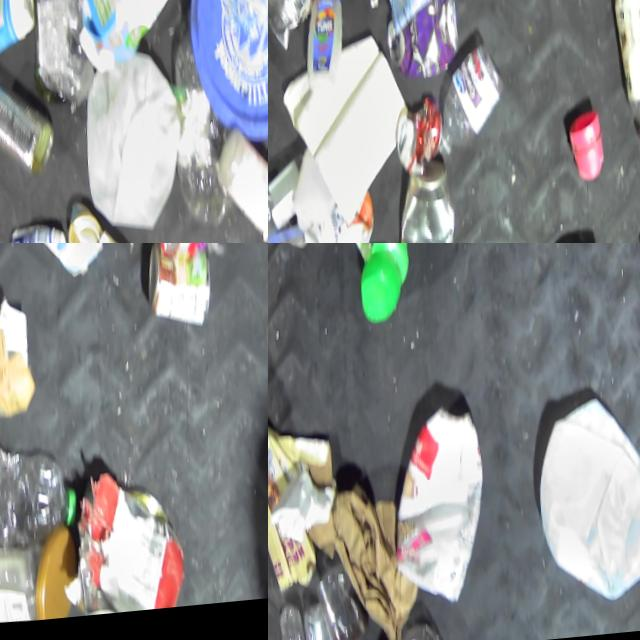can: (135, 243, 209, 341), (378, 0, 458, 89), (385, 157, 451, 243), (0, 76, 52, 182), (387, 101, 439, 183), (373, 0, 445, 41), (268, 0, 314, 57), (56, 201, 99, 243)
milk_jug: (521, 396, 640, 614), (72, 50, 182, 240)
plastic_bottle: (377, 408, 485, 612), (0, 431, 74, 565), (423, 44, 502, 168), (268, 152, 302, 243), (268, 602, 302, 640)
